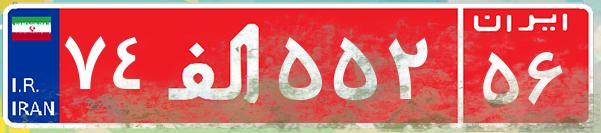2: (385, 28, 445, 110)
4: (110, 28, 158, 105)
5: (273, 28, 330, 110), (330, 28, 385, 110), (475, 38, 525, 113)
6: (525, 38, 570, 115)
7: (57, 26, 110, 107)
الف: (158, 15, 273, 115)
